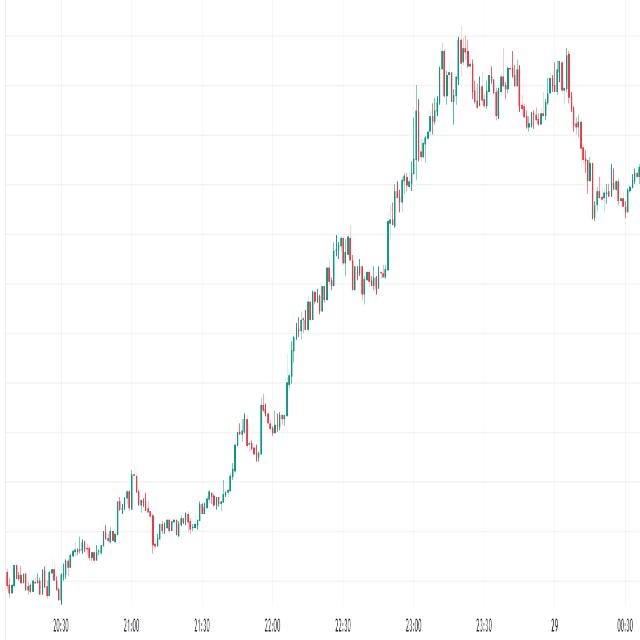Rounding-Top: (382, 16, 598, 225)
